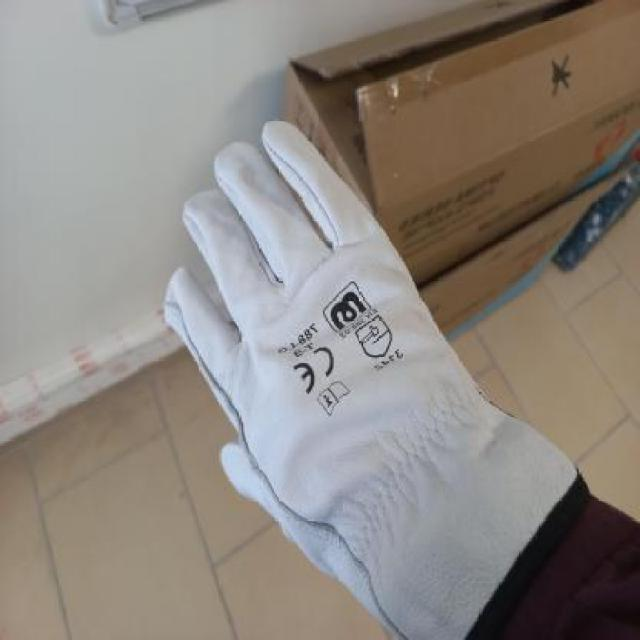gloves: (156, 103, 568, 575)
